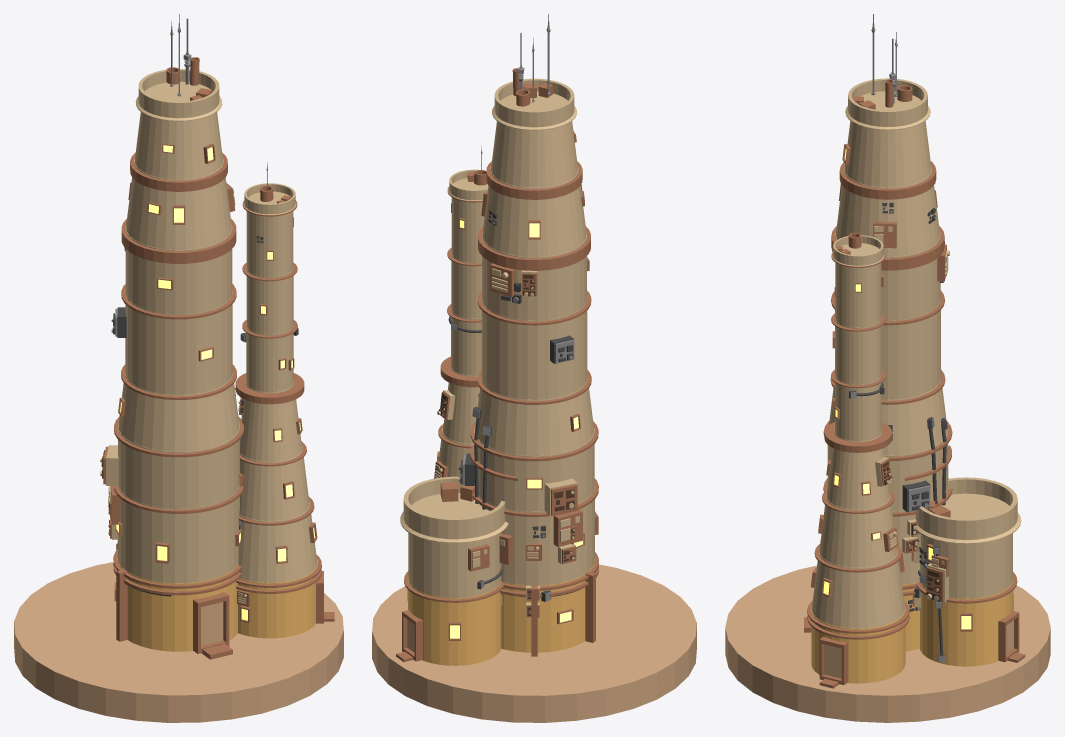
File: nomad_building_06.fbx
The picture shows the model from 3 angles, left to right: view 1: azimuth 30°, elevation 25°; view 2: azimuth 150°, elevation 25°; view 3: azimuth 270°, elevation 25°; orthographic projection.
Parts seen in each view (by area): view 1: B06_M_Foundation_foundation, B06_M_Drum1, B06_M_Drum4, B06_M_Drum2, B06_M_Drum3, B06_M_Drum6, B06_M_Drum5, B06_M_Drum0, B06_M_Drum7, B06_A1_Drum1, B06_A1_Drum2, B06_A1_Drum0 (+18 smaller); view 2: B06_M_Foundation_foundation, B06_M_Drum4, B06_M_Drum3, B06_M_Drum6, B06_A2_Drum0, B06_M_Drum7, B06_A2_Crown_RoofDeck_Ringwall, B06_M_Drum2, B06_M_Drum1, B06_A2_Drum1, B06_M_Drum0, B06_M_Drum5 (+20 smaller); view 3: B06_M_Foundation_foundation, B06_A2_Crown_RoofDeck_Ringwall, B06_A1_Drum1, B06_A2_Drum0, B06_M_Drum7, B06_M_Drum6, B06_M_Drum4, B06_A2_Drum1, B06_A1_Drum2, B06_A1_Drum0, B06_M_Drum3, B06_M_Crown_RoofDeck_Ringwall (+16 smaller).
Boxes of the visible parts, x1,y1,x2,y2 form: B06_M_Foundation_foundation: (14,562,343,722); B06_M_Drum1: (117,486,240,583); B06_M_Drum4: (125,290,232,394); B06_M_Drum2: (118,422,239,508); B06_M_Drum3: (118,371,239,451); B06_M_Drum6: (126,157,231,249); B06_M_Drum5: (125,224,232,314); B06_M_Drum0: (117,556,238,651); B06_M_Drum7: (135,112,222,179); B06_A1_Drum1: (238,501,317,582); B06_A1_Drum2: (239,446,309,520); B06_A1_Drum0: (238,560,317,638); B06_M_Foundation_foundation: (372,564,696,722); B06_M_Drum4: (481,296,587,399); B06_M_Drum3: (475,376,593,455); B06_M_Drum6: (482,166,586,257); B06_A2_Drum0: (408,578,501,665); B06_M_Drum7: (491,121,577,187); B06_A2_Crown_RoofDeck_Ringwall: (400,476,508,543); B06_M_Drum2: (474,427,594,511); B06_M_Drum1: (478,485,594,585); B06_A2_Drum1: (408,532,501,597); B06_M_Drum0: (501,559,594,652); B06_M_Drum5: (482,231,586,320); B06_M_Foundation_foundation: (725,565,1050,722); B06_A2_Crown_RoofDeck_Ringwall: (915,477,1021,544); B06_A1_Drum1: (811,548,904,628); B06_A2_Drum0: (920,578,1013,666); B06_M_Drum7: (844,121,931,187); B06_M_Drum6: (835,167,940,256); B06_M_Drum4: (835,298,940,399); B06_A2_Drum1: (920,533,1012,598); B06_A1_Drum2: (819,493,897,567); B06_A1_Drum0: (811,606,905,683); B06_M_Drum3: (829,377,947,455); B06_M_Crown_RoofDeck_Ringwall: (845,78,930,130).
Bounding box in the file's own units: 566 × 1221 × 566.
